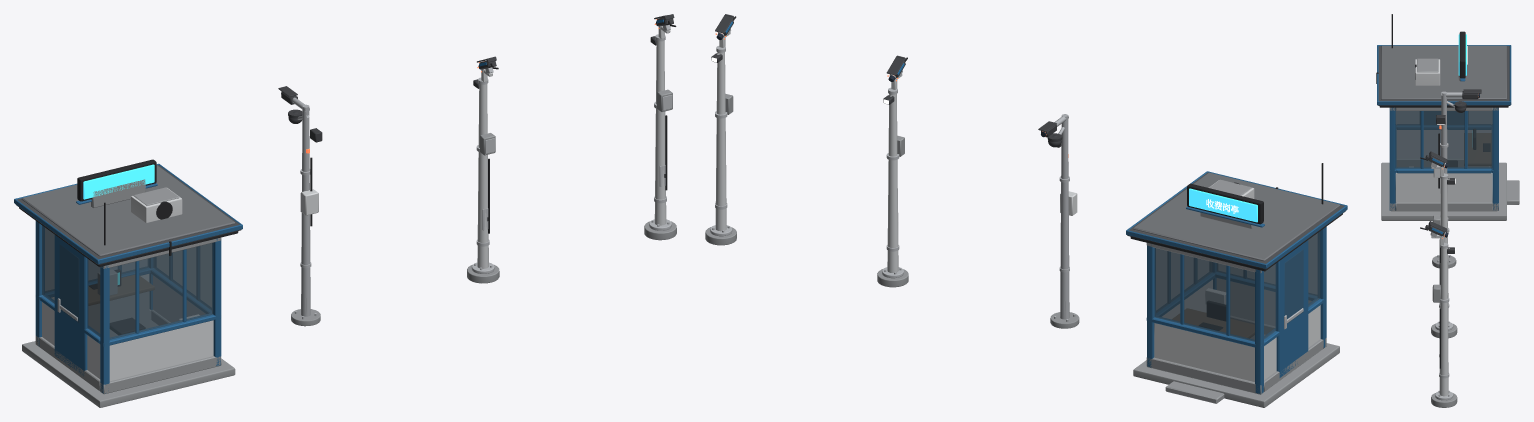
File: booth_props.glb
The picture shows the model from 3 angles, left to right: view 1: azimuth 30°, elevation 25°; view 2: azimuth 150°, elevation 25°; view 3: azimuth 270°, elevation 25°; orthographic projection. The views are drawn at different scales.
Visible parts, largest first — view 1: Booth, CameraPole, LprCamera_out, LprCamera_in; view 2: Booth, LprCamera_in, LprCamera_out, CameraPole; view 3: Booth, LprCamera_out, LprCamera_in, CameraPole.
Part boxes in pixels (x1,y1,x2,y2): Booth: (14,159,242,407); CameraPole: (278,86,322,326); LprCamera_out: (644,14,676,240); LprCamera_in: (467,56,499,283); Booth: (1126,163,1347,407); LprCamera_in: (877,55,908,287); LprCamera_out: (705,14,736,245); CameraPole: (1038,114,1079,328); Booth: (1376,14,1519,220); LprCamera_out: (1420,221,1457,407); LprCamera_in: (1420,151,1457,338); CameraPole: (1432,89,1481,268).
Bounding box in the file's own units: 10.47 × 3.64 × 2.62.
